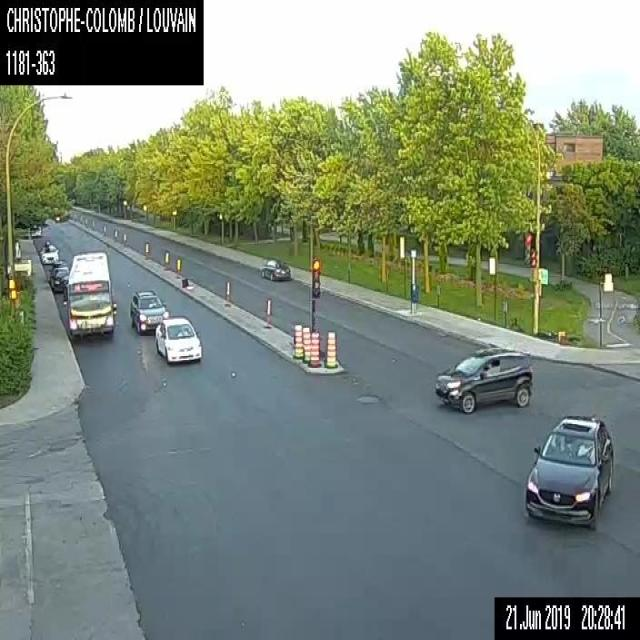bus: (61, 250, 117, 342)
construction: (324, 329, 336, 368), (308, 328, 320, 367), (292, 322, 304, 359), (302, 325, 310, 364), (264, 297, 272, 327), (225, 278, 230, 306), (163, 248, 169, 271), (175, 255, 180, 278), (144, 241, 149, 259), (122, 232, 126, 245), (102, 224, 106, 236), (114, 229, 118, 241), (84, 216, 88, 226), (91, 218, 94, 230)
vehicle: (524, 411, 613, 526), (433, 345, 531, 415), (154, 316, 204, 362), (130, 287, 168, 333), (260, 255, 292, 281), (40, 239, 59, 263), (52, 265, 68, 292), (48, 260, 65, 282)
